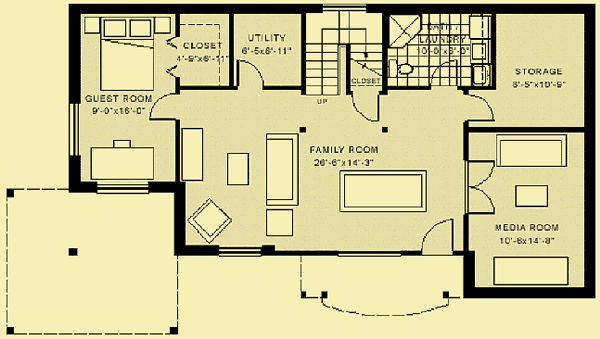bed: (97, 16, 158, 93)
door: (463, 159, 498, 217), (418, 218, 458, 255), (351, 90, 384, 124), (463, 92, 497, 124), (236, 58, 265, 93), (149, 91, 177, 124)
large_sink: (388, 58, 414, 80)
large_sofa: (264, 131, 303, 209), (493, 134, 567, 171)
small_sofa: (188, 197, 232, 244)
stairs: (303, 14, 343, 99), (348, 13, 382, 79)
window: (68, 100, 82, 157), (96, 180, 148, 194), (216, 246, 263, 258), (320, 5, 366, 17)
